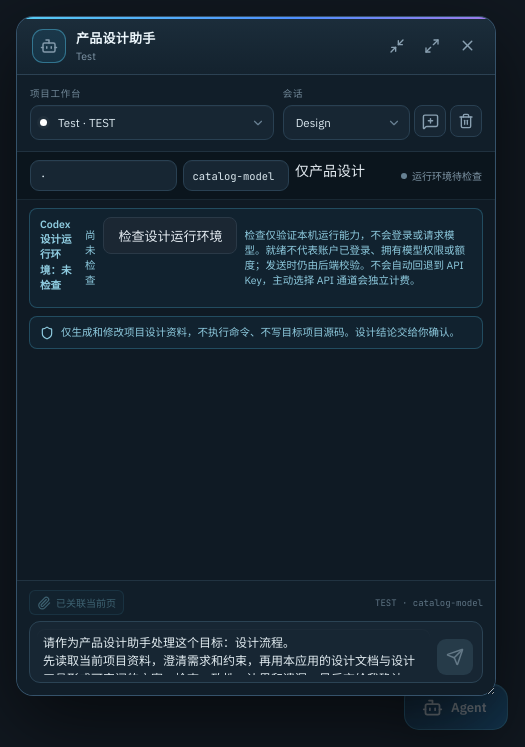
allows Codex design input only after authoritative runtime readiness
The image size is (525, 747).
Click the button "检查设计运行环境": [170, 236] box [103, 217, 237, 254]
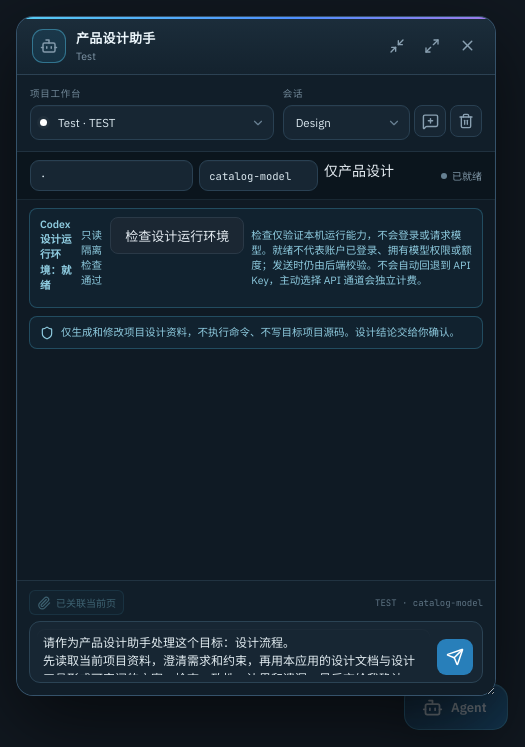
Now the button named "发送" is enabled, box [437, 639, 473, 675]
